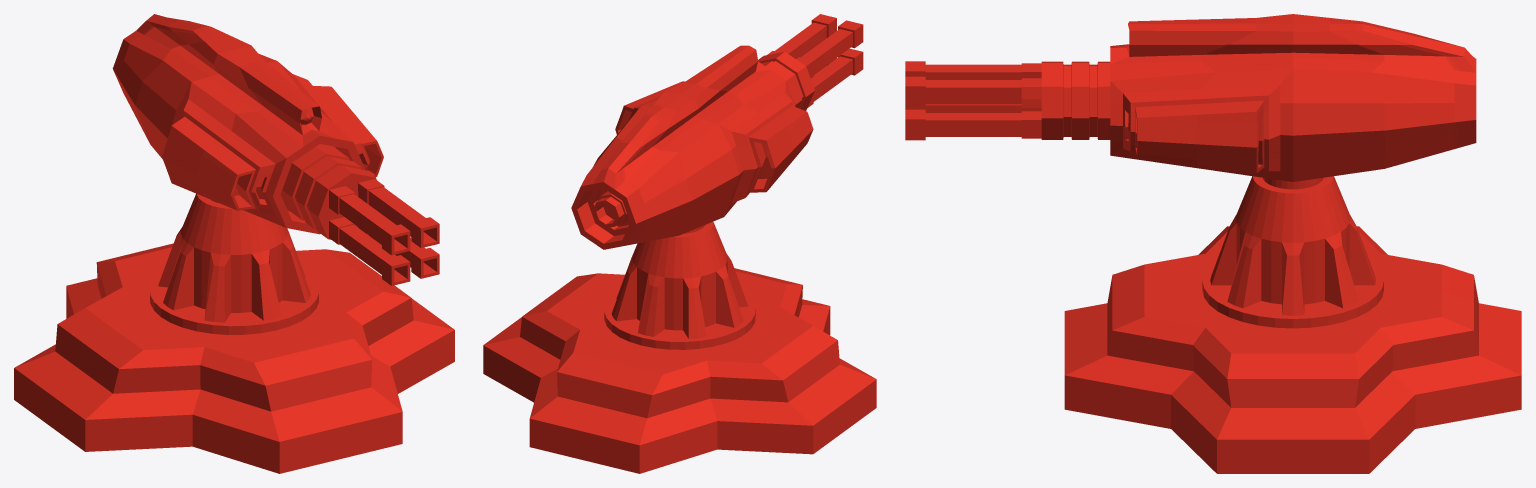
The model's file is ENEMY_TurretLight_00_2023-10-28.fbx.
The picture shows the model from 3 angles, left to right: view 1: azimuth 30°, elevation 25°; view 2: azimuth 150°, elevation 25°; view 3: azimuth 270°, elevation 25°; orthographic projection. The views are drawn at different scales.
Parts seen in each view (by area): view 1: LT.001; view 2: LT.001; view 3: LT.001.
Part boxes in pixels (x1=…): LT.001: x1=14, y1=14, x2=454, y2=473; LT.001: x1=483, y1=14, x2=876, y2=473; LT.001: x1=905, y1=14, x2=1521, y2=473.
Bounding box in the file's own units: 274 × 235 × 370.
